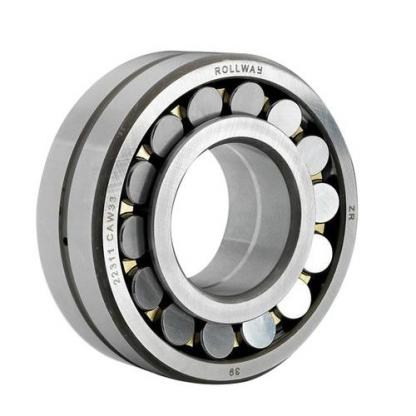FOD: (30, 46, 361, 387)
